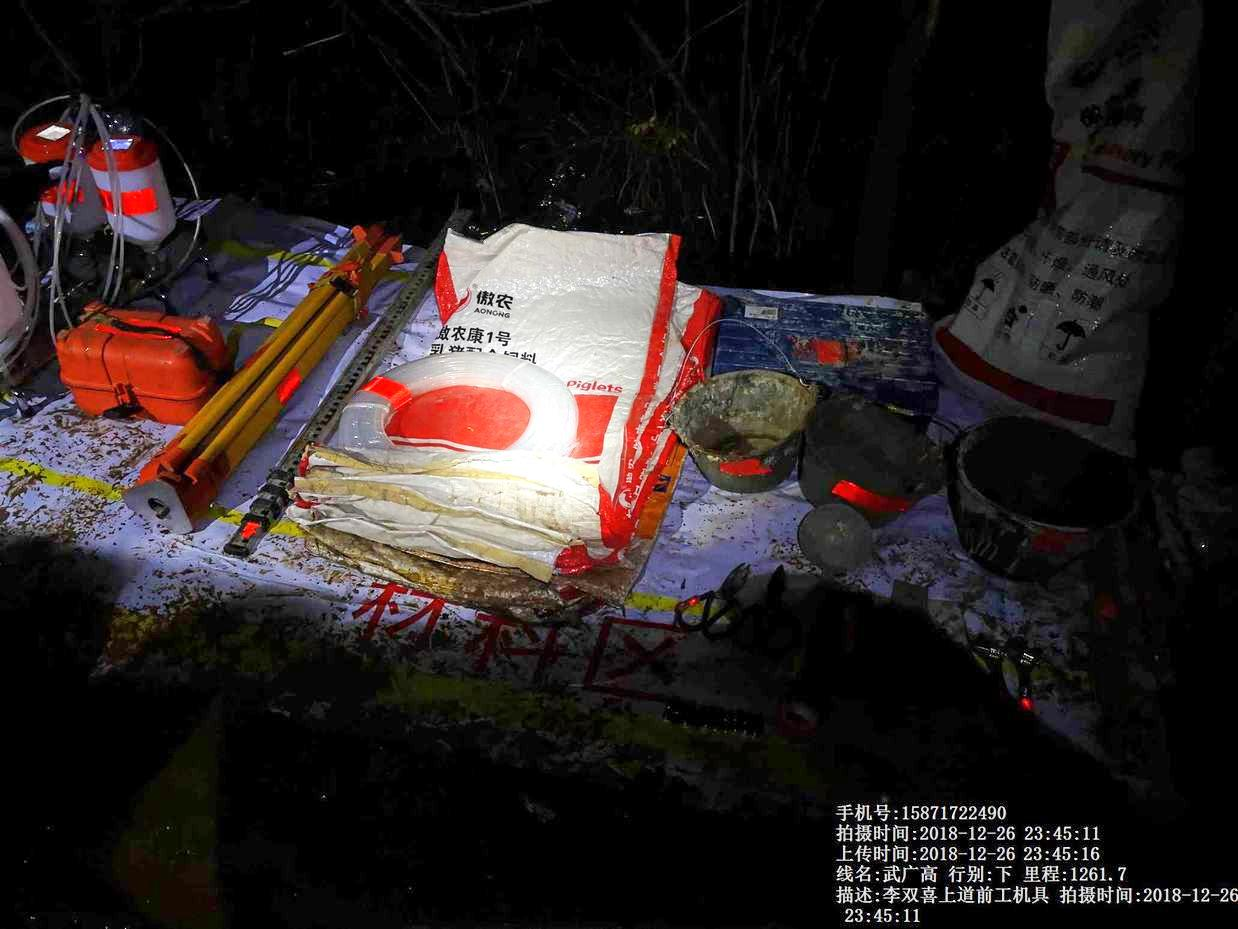BZD: (295, 240, 706, 578)
SG: (356, 356, 577, 452)
SNT: (668, 367, 807, 487)
